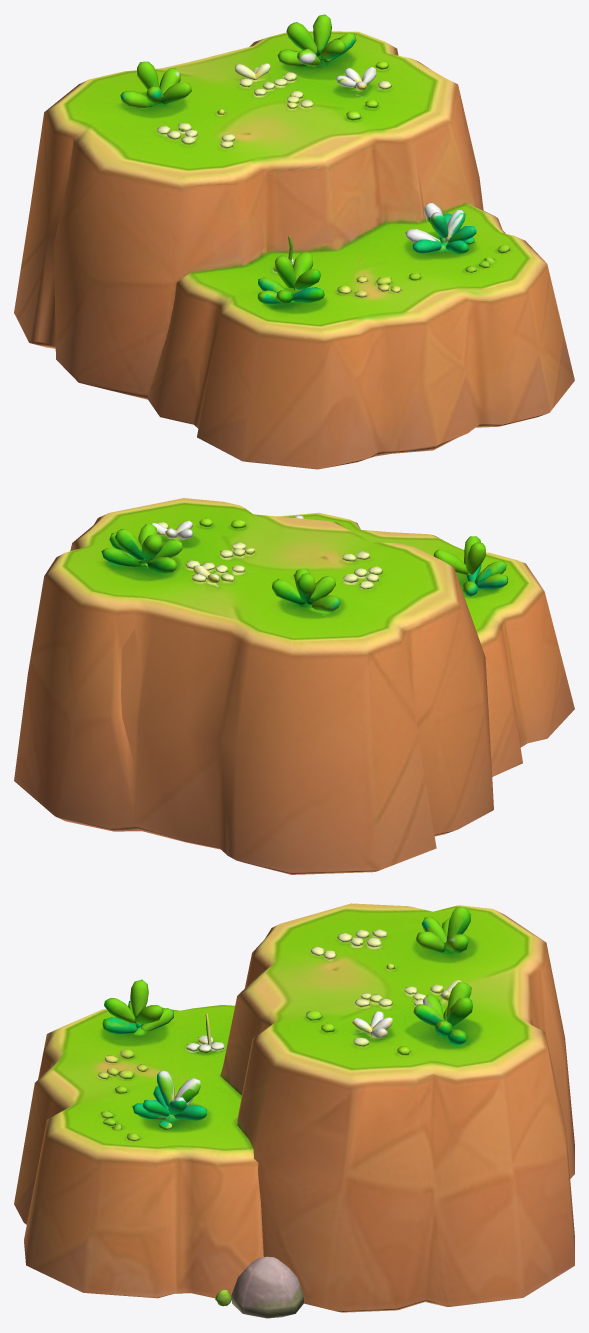
The model's file is r5c1_raised_grass_terrace.glb.
3 renders of one model, top to bottom at view 1: azimuth 30°, elevation 25°; view 2: azimuth 150°, elevation 25°; view 3: azimuth 270°, elevation 25°, orthographic. The views are drawn at different scales.
Size of the model in its own units: 0.9316 by 0.5273 by 1.
1 material, 1 textured.
